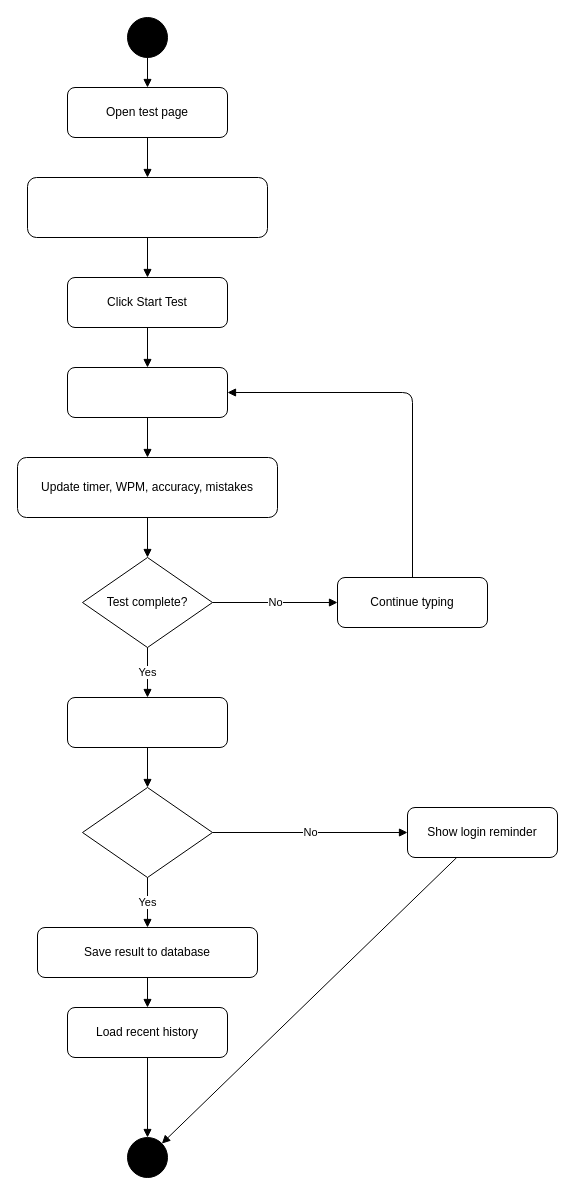
The diagram is 575 pixels wide and 1195 high, and some of its shapes have lost their labels. Each missing label, with the centre of its shape:
"Load sample text and initialize test" belongs at (147,207).
"Show result summary" belongs at (147,722).
"Typing in progress" belongs at (147,392).
"User logged in?" belongs at (147,832).
